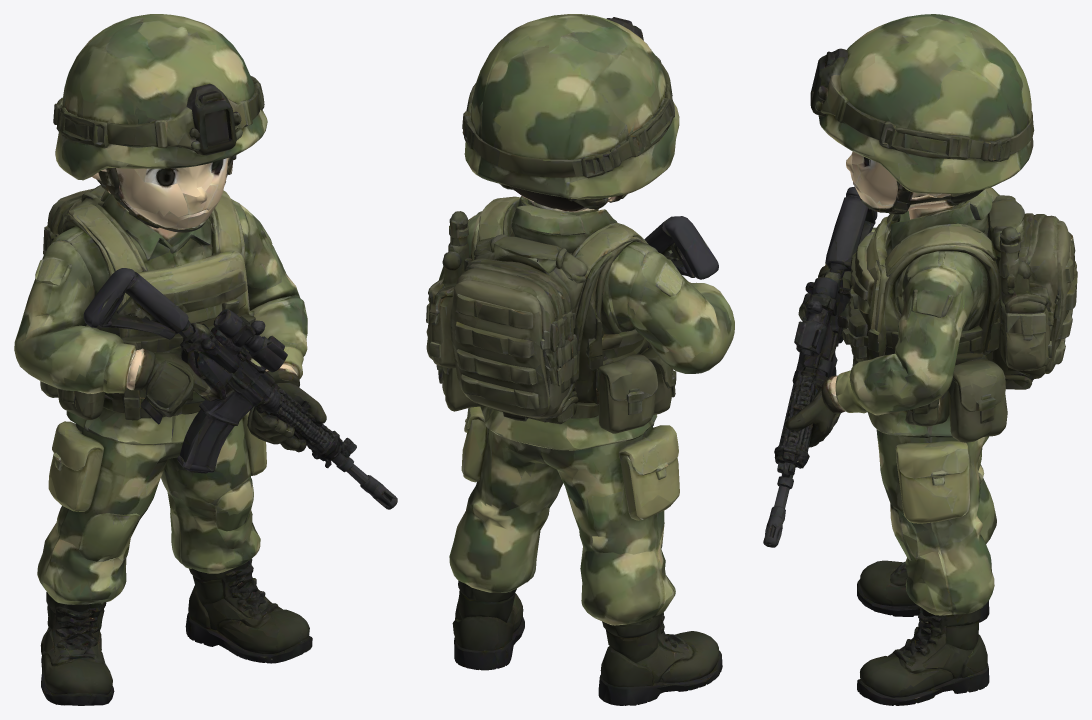
File: upm_mu5zzupa21w.glb
3 views of the same model, side by side, from view 1: azimuth 30°, elevation 25°; view 2: azimuth 150°, elevation 25°; view 3: azimuth 270°, elevation 25° (orthographic). The views are drawn at different scales.
Size of the model in its own units: 0.941 by 1.9 by 0.865.
1 material, 1 textured.
